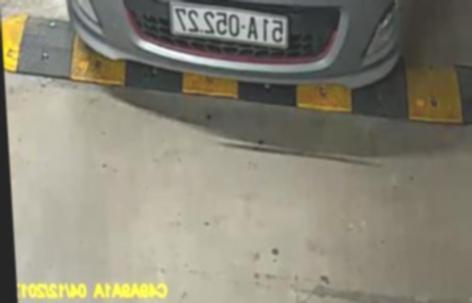License_Plate: (163, 6, 291, 45)
